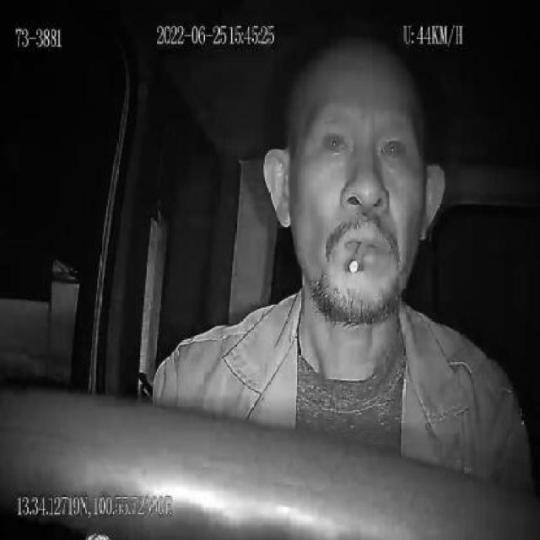smoking: (348, 238, 370, 275)
